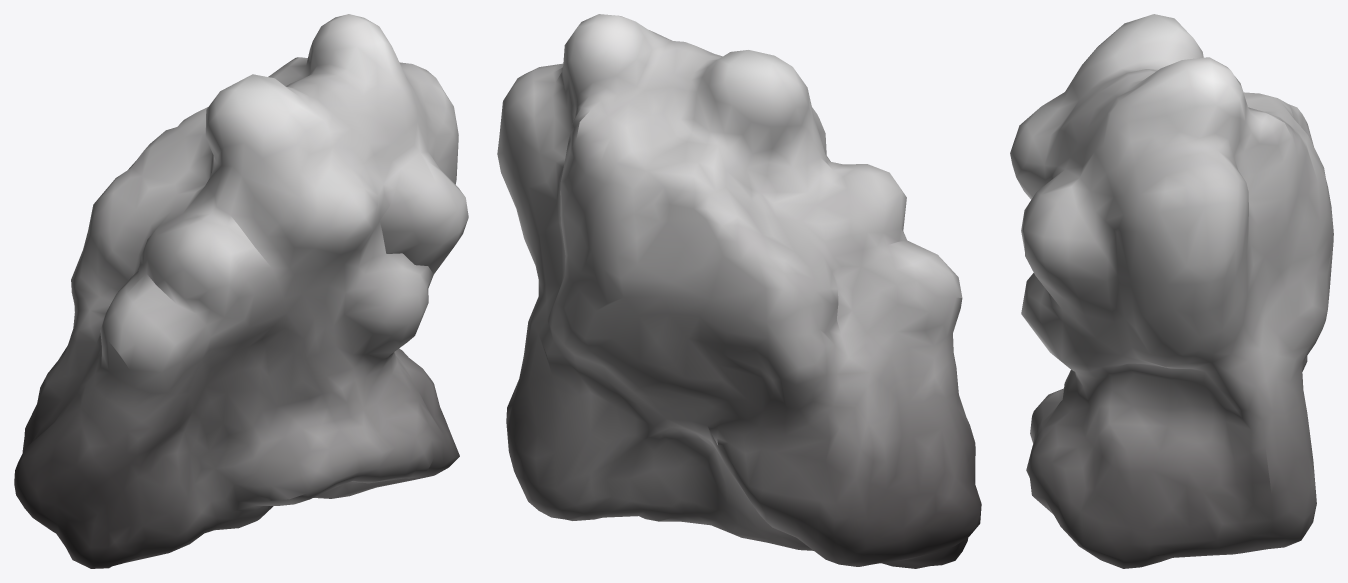
File: porites-lobata.glb
3 renders of one model, left to right at view 1: azimuth 30°, elevation 25°; view 2: azimuth 150°, elevation 25°; view 3: azimuth 270°, elevation 25°, orthographic. The views are drawn at different scales.
Visible parts, largest first — view 1: porites-lobata; view 2: porites-lobata; view 3: porites-lobata.
Part boxes in pixels (x1,y1,x2,y2): porites-lobata: (14,14,468,568); porites-lobata: (497,14,981,568); porites-lobata: (1010,14,1333,568).
Size of the model in its own units: 0.1796 by 0.184 by 0.1062.
1 material, 1 textured.
